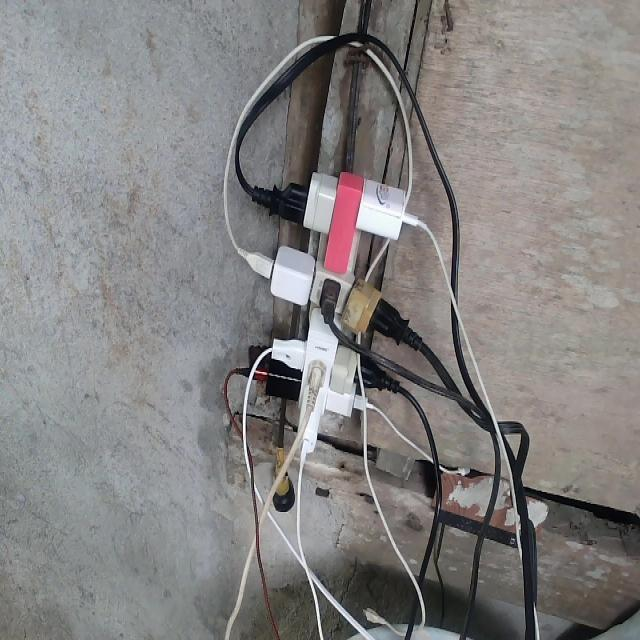-: (245, 168, 416, 455)
